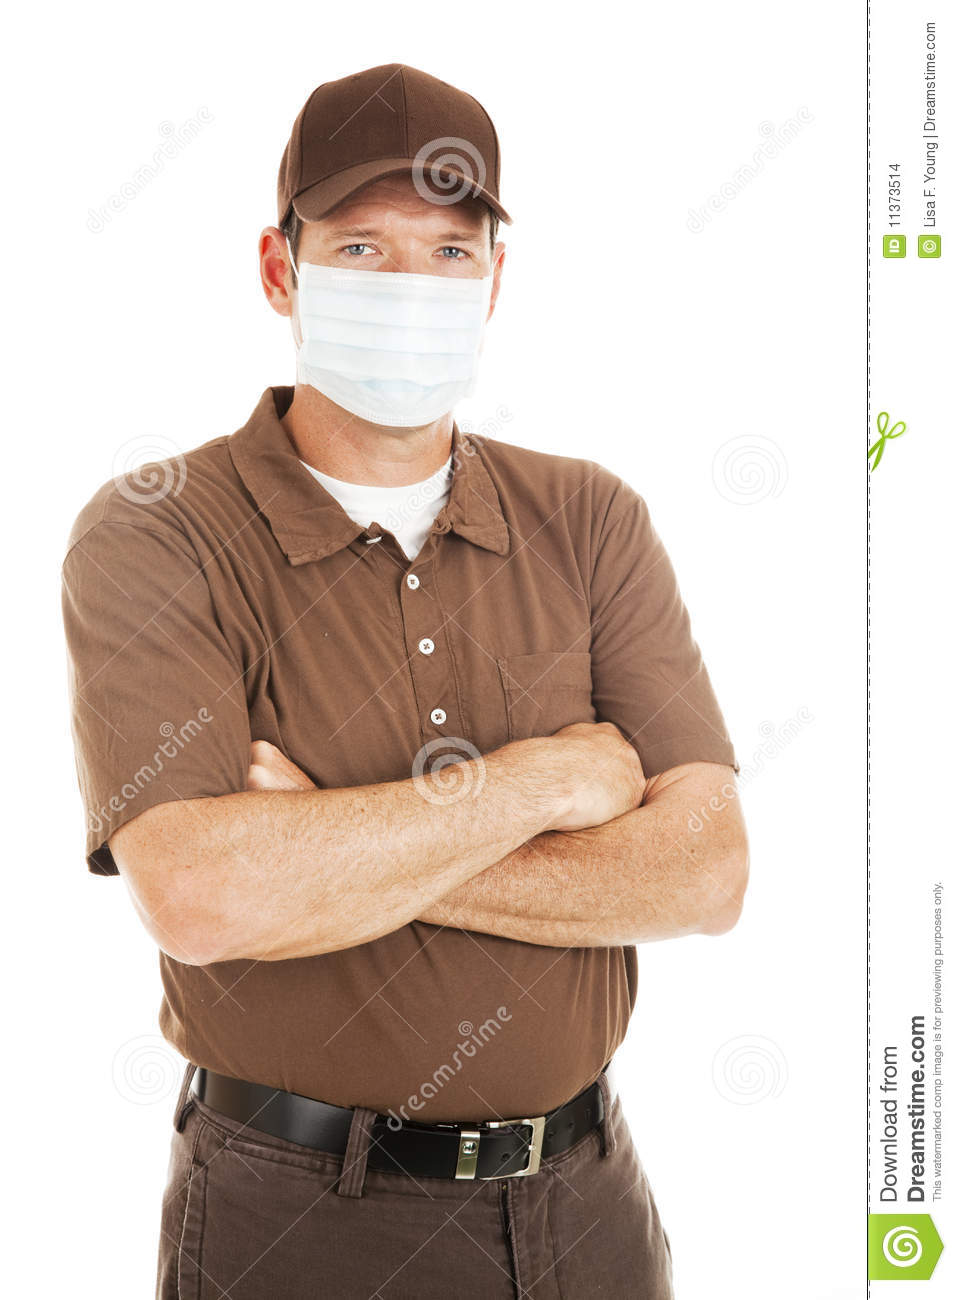mask: (292, 261, 491, 426)
